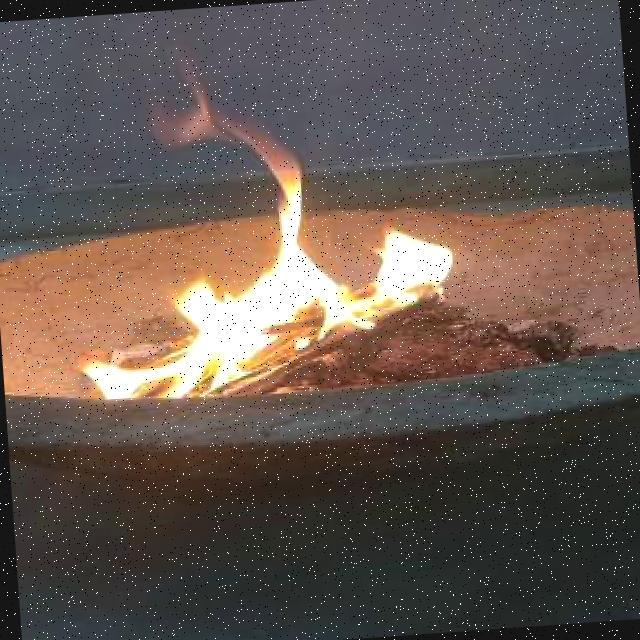Fire: (56, 12, 480, 399)
